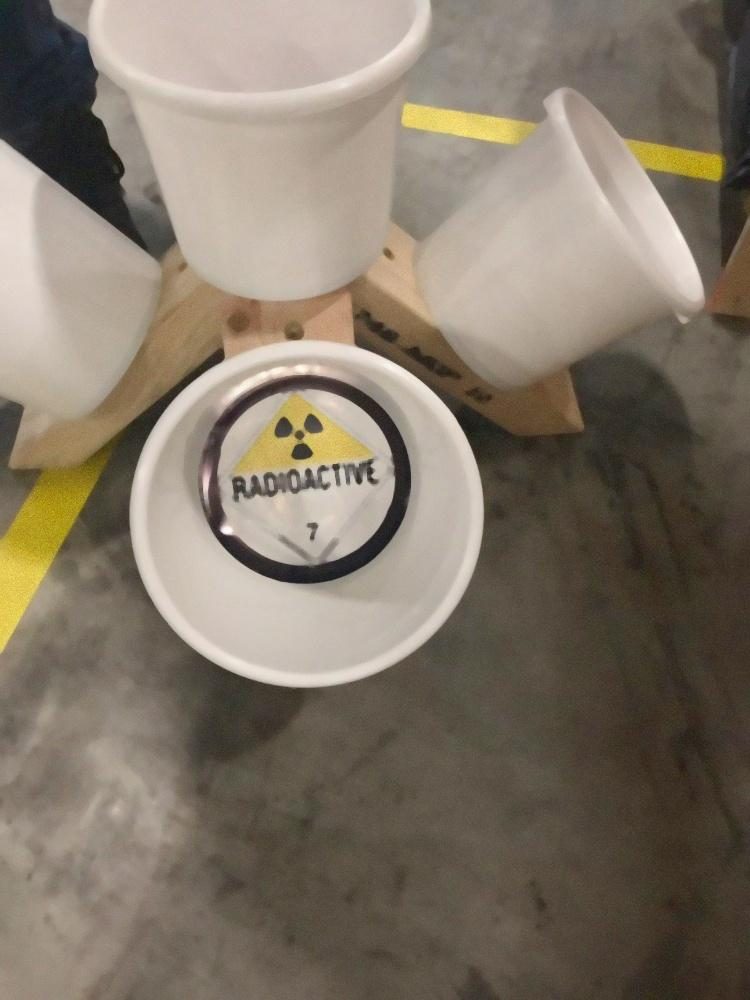radioactive: (214, 397, 391, 559)
